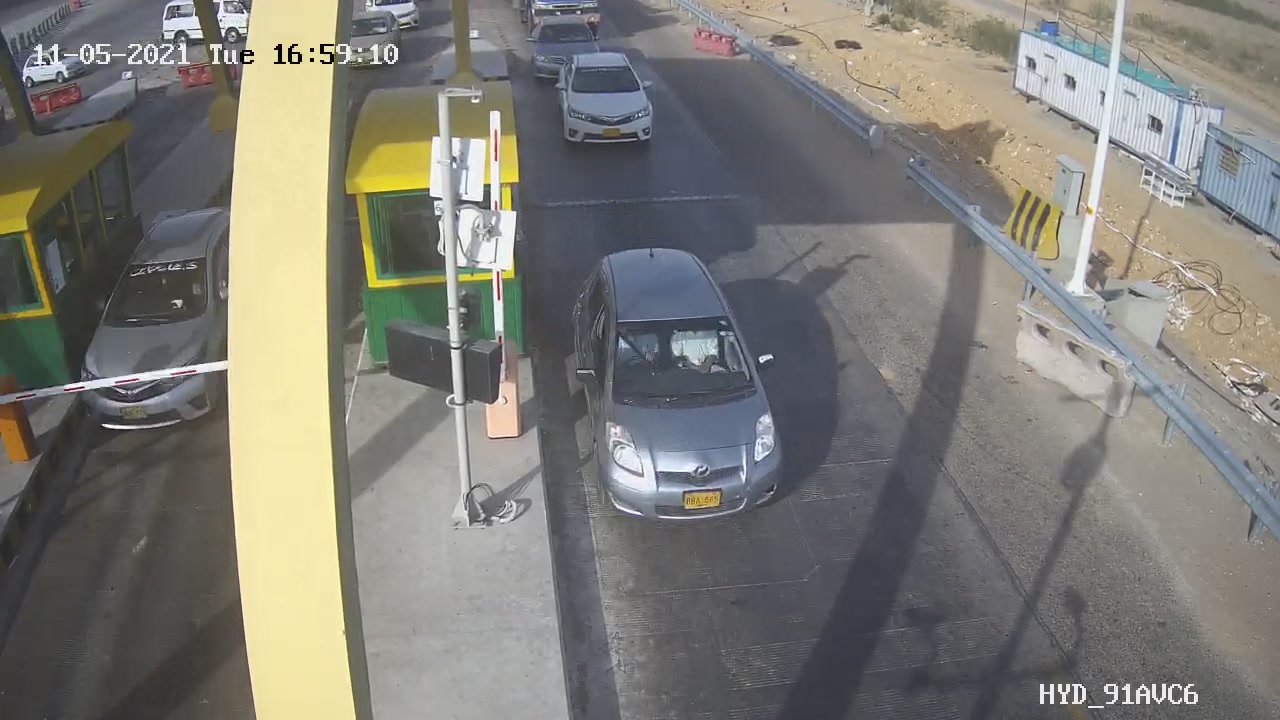F1: (543, 227, 804, 547), (543, 38, 674, 164)
